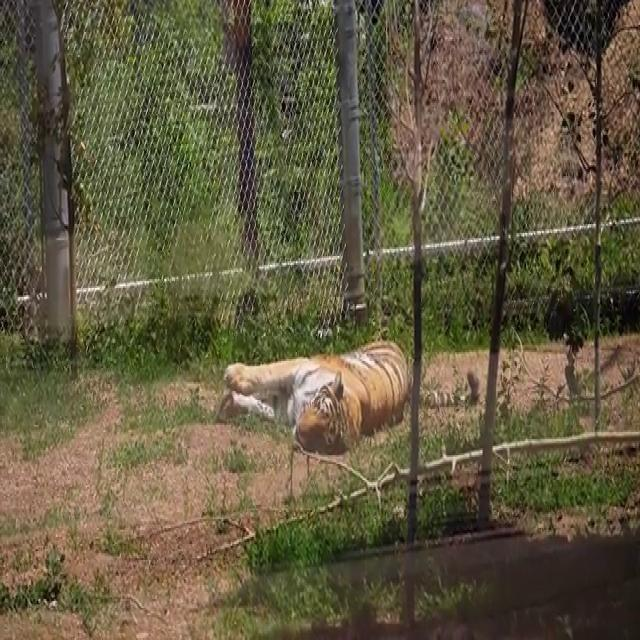tiger: (223, 339, 479, 455)
